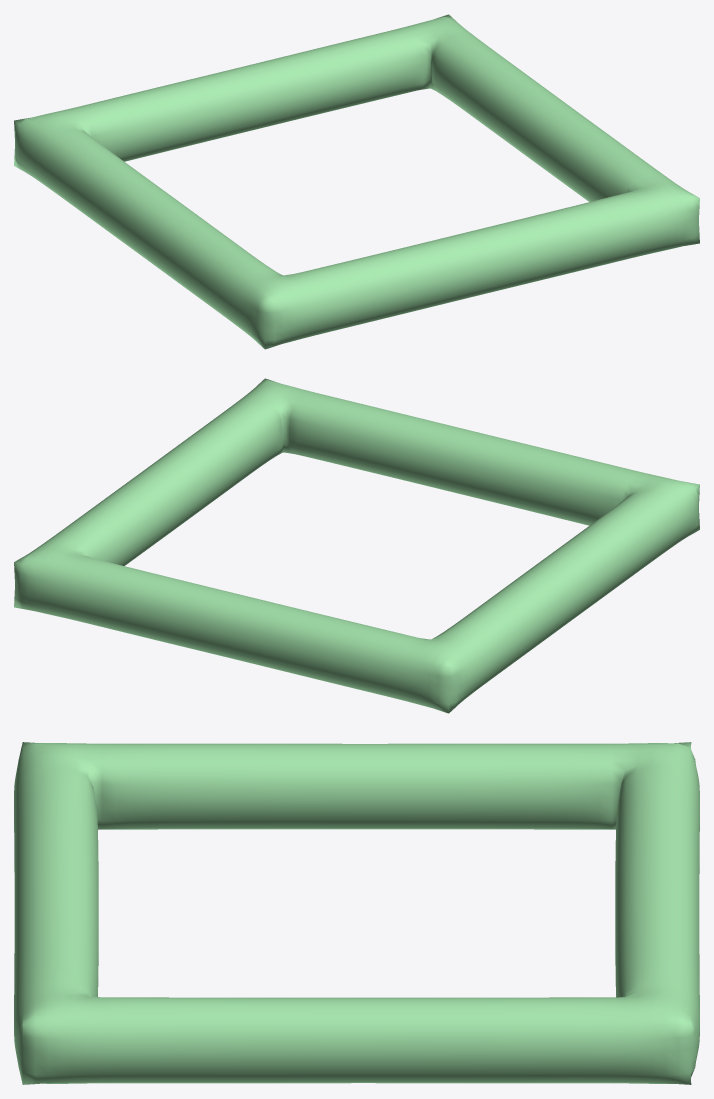
The model's file is CellButtom.fbx.
3 views of the same model, one above another, from view 1: azimuth 30°, elevation 25°; view 2: azimuth 150°, elevation 25°; view 3: azimuth 270°, elevation 25° (orthographic). The views are drawn at different scales.
Parts seen in each view (by area): view 1: Support; view 2: Support; view 3: Support.
Part boxes in pixels (box(x1,y1,x2,y2)): Support: box(14, 14, 699, 349); Support: box(14, 378, 699, 713); Support: box(14, 742, 699, 1084).
Size of the model in its own units: 1025 by 128 by 1025.
